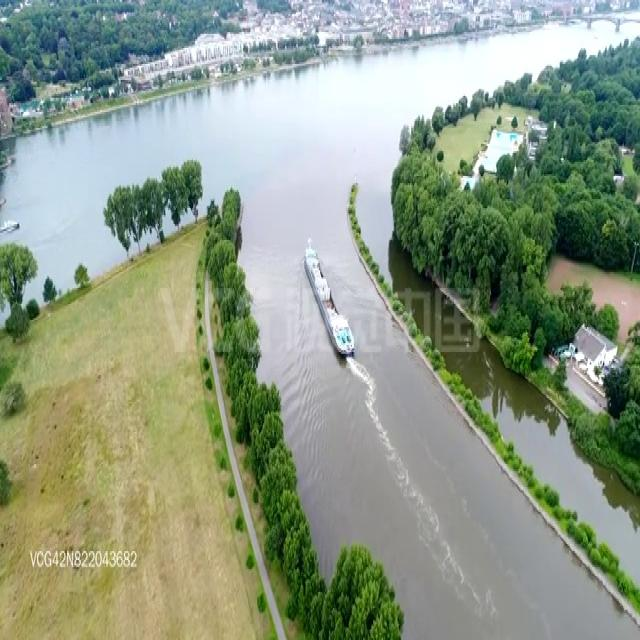cargoship: (302, 239, 354, 359)
houseboat: (0, 213, 21, 232)
